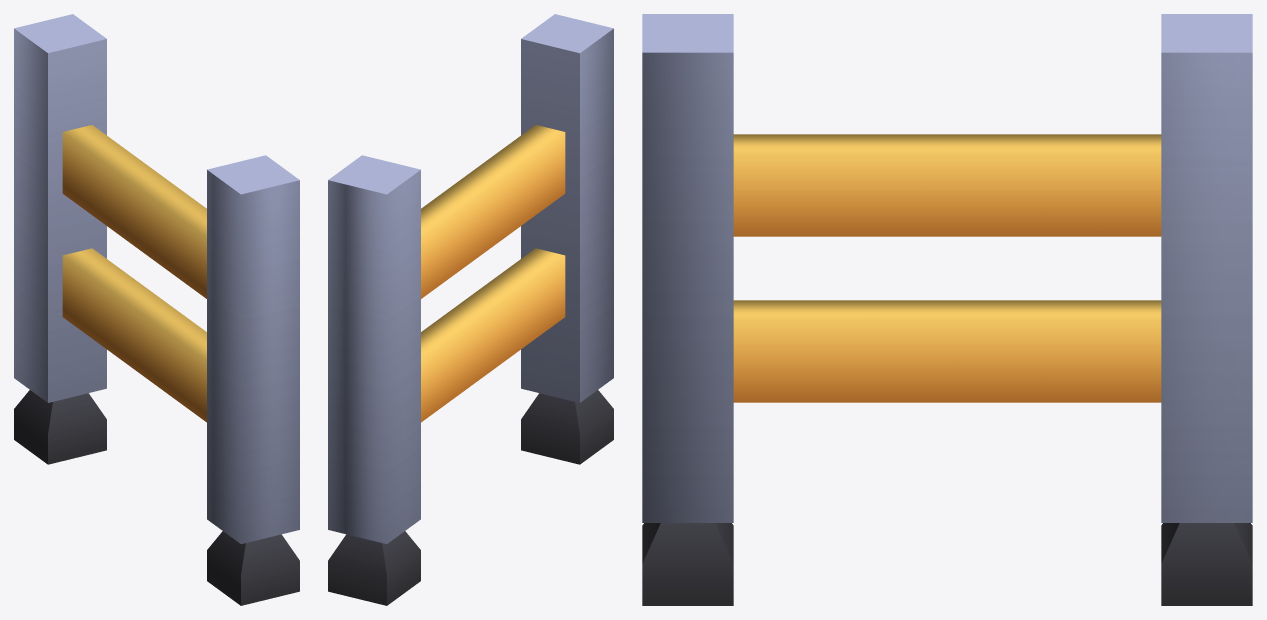
3 renders of one model, left to right at view 1: azimuth 30°, elevation 25°; view 2: azimuth 150°, elevation 25°; view 3: azimuth 270°, elevation 25°, orthographic. The views are drawn at different scales.
Visible parts, largest first — view 1: structure_yellow_medium; view 2: structure_yellow_medium; view 3: structure_yellow_medium.
Part boxes in pixels (x1,y1,x2,y2): structure_yellow_medium: (14,14,299,605); structure_yellow_medium: (328,14,613,605); structure_yellow_medium: (642,14,1252,605).
Bounding box in the file's own units: 0.15 × 1 × 1.
Materials: 1 (1 with a texture image).
